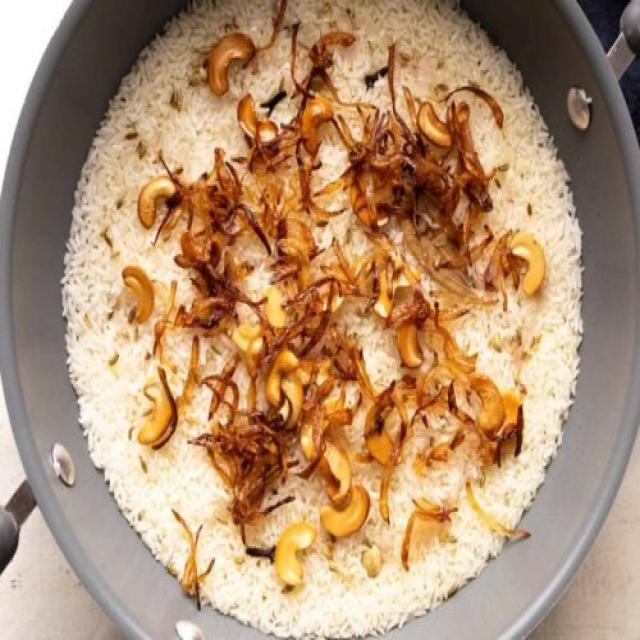nei satham: (64, 9, 607, 640)
